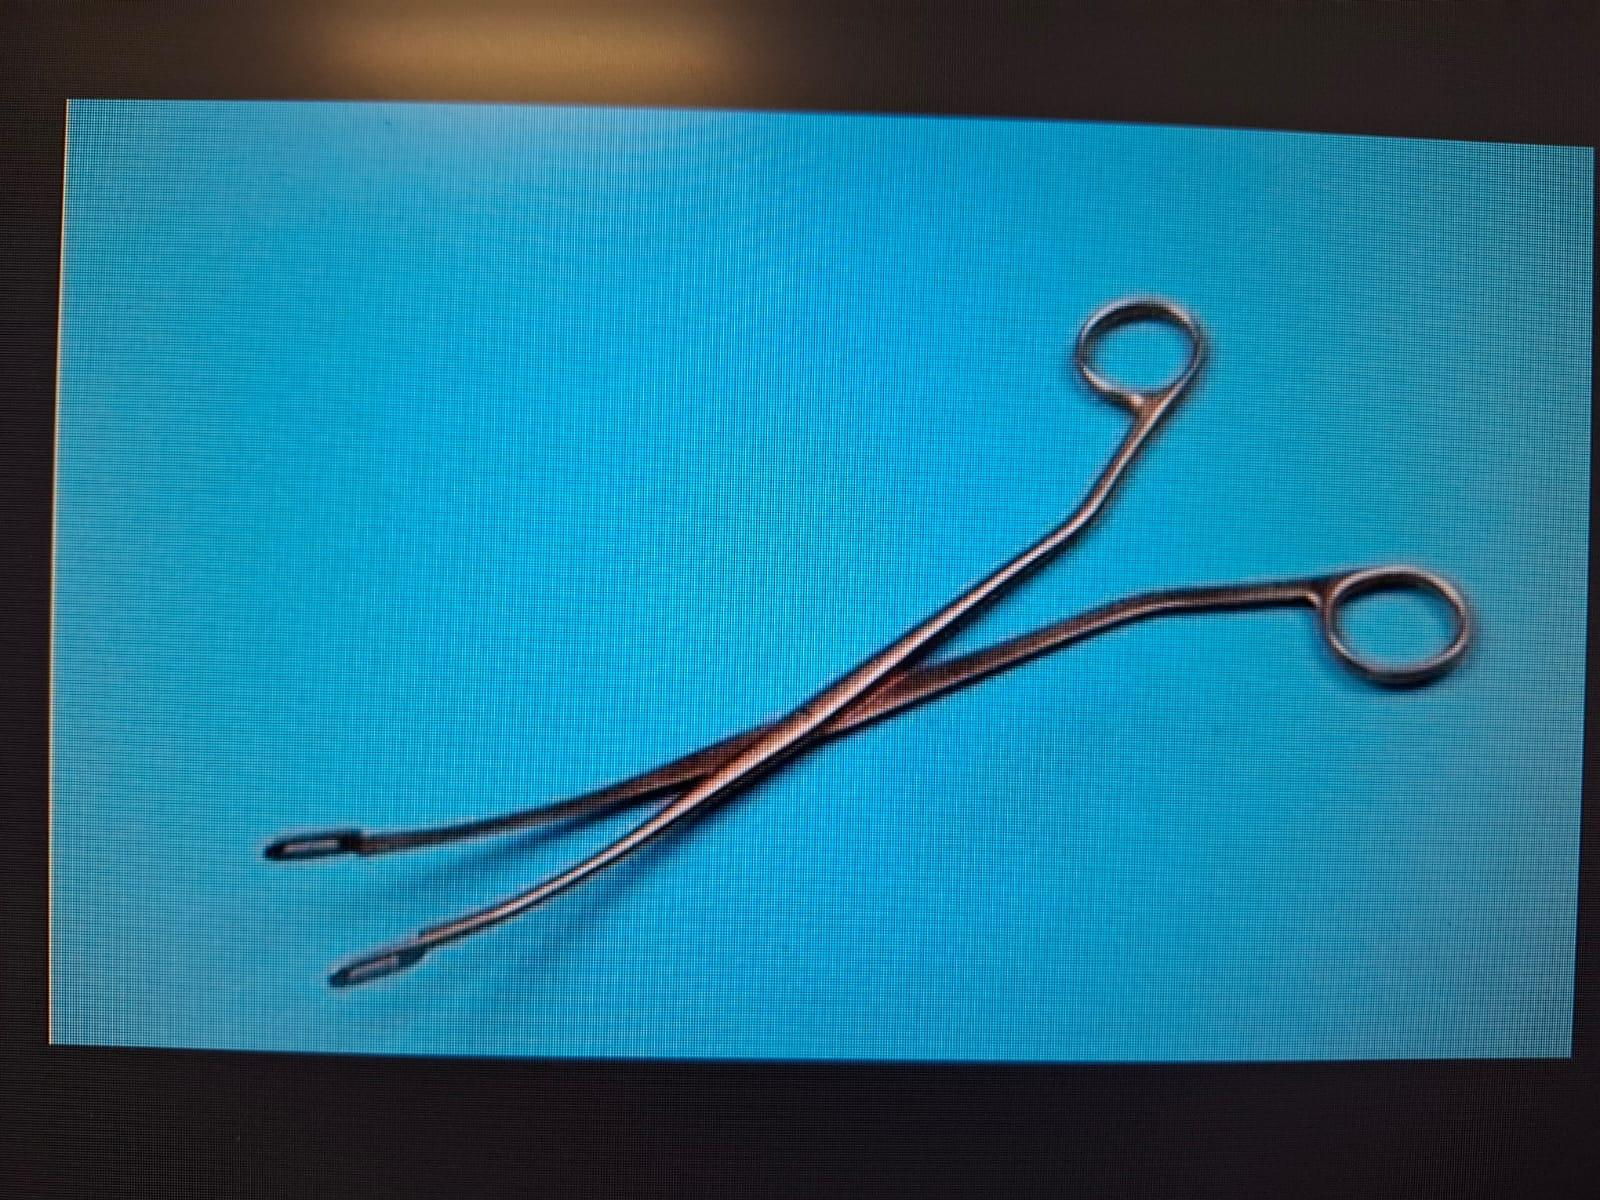Desjardin Forceps: (246, 272, 1492, 1012)
